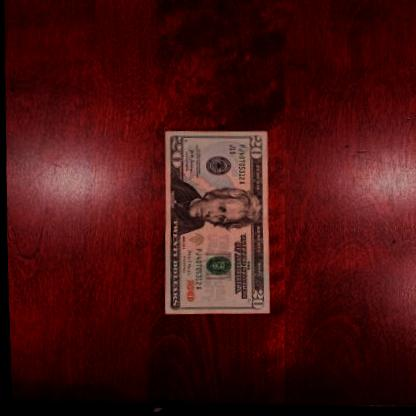twenty-front: (158, 129, 272, 318)
